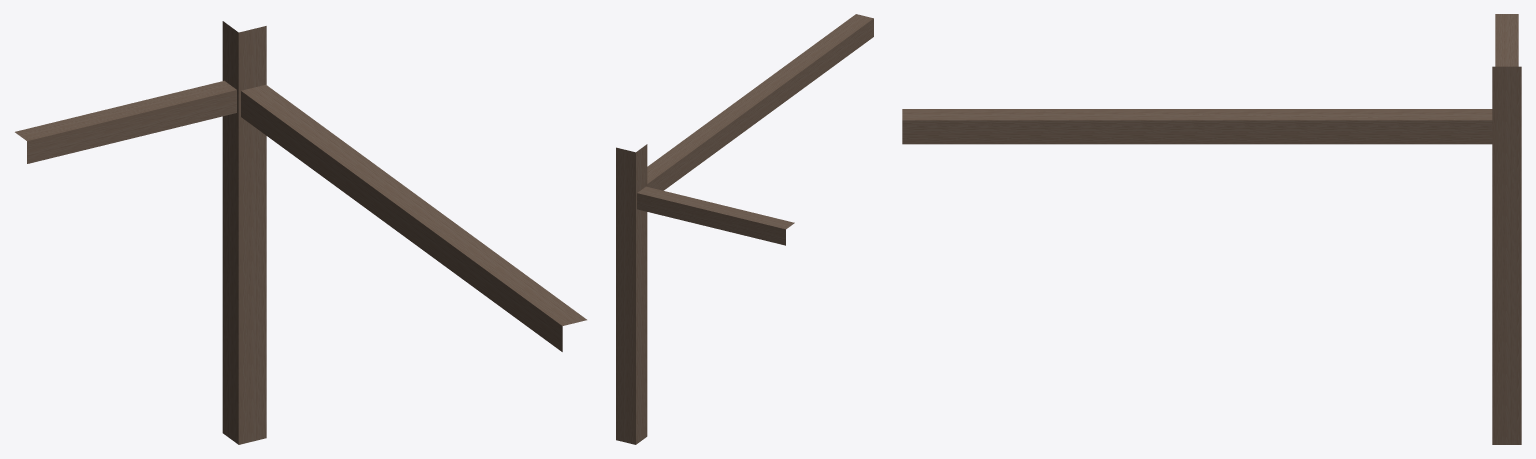
The model's file is kd_stage_135b75_4_157.glb.
3 renders of one model, left to right at view 1: azimuth 30°, elevation 25°; view 2: azimuth 150°, elevation 25°; view 3: azimuth 270°, elevation 25°, orthographic. The views are drawn at different scales.
Parts seen in each view (by area): view 1: kd_stage_135b75_4_157; view 2: kd_stage_135b75_4_157; view 3: kd_stage_135b75_4_157.
Part boxes in pixels (x1=…): kd_stage_135b75_4_157: x1=15, y1=21, x2=586, y2=444; kd_stage_135b75_4_157: x1=616, y1=14, x2=873, y2=444; kd_stage_135b75_4_157: x1=902, y1=14, x2=1521, y2=444.
Size of the model in its own units: 1.71 by 2.83 by 4.2.
1 material, 1 textured.
